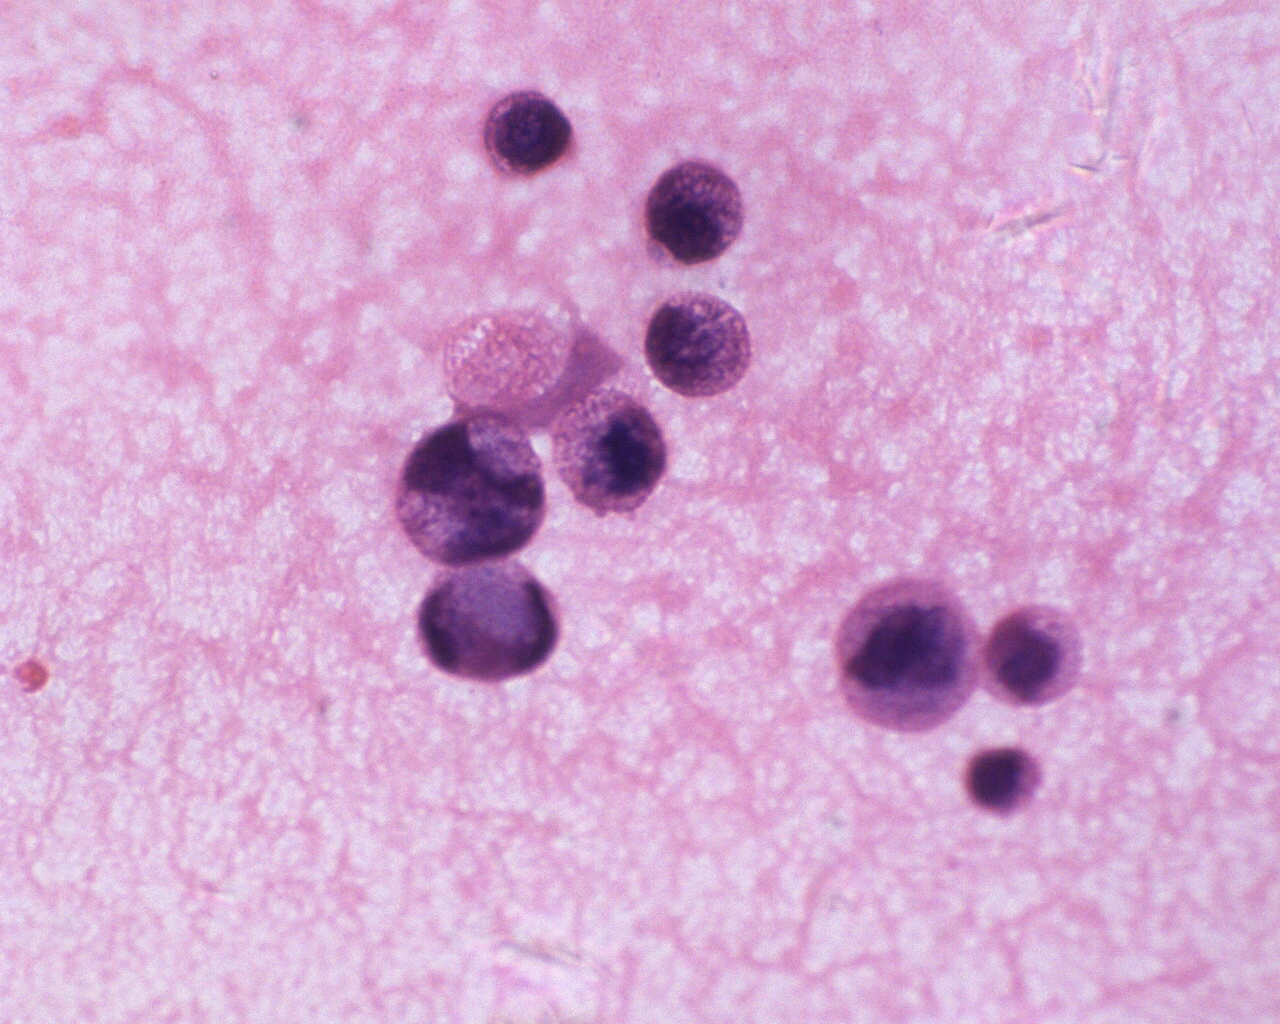ab: (391, 406, 557, 564), (833, 571, 984, 740), (552, 387, 671, 517), (646, 285, 764, 400), (641, 159, 749, 271), (986, 604, 1090, 714), (484, 83, 579, 181), (962, 740, 1049, 827)
